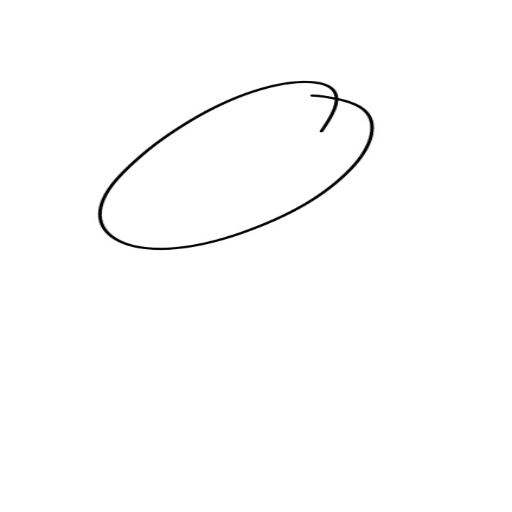circle: (89, 69, 393, 257)
